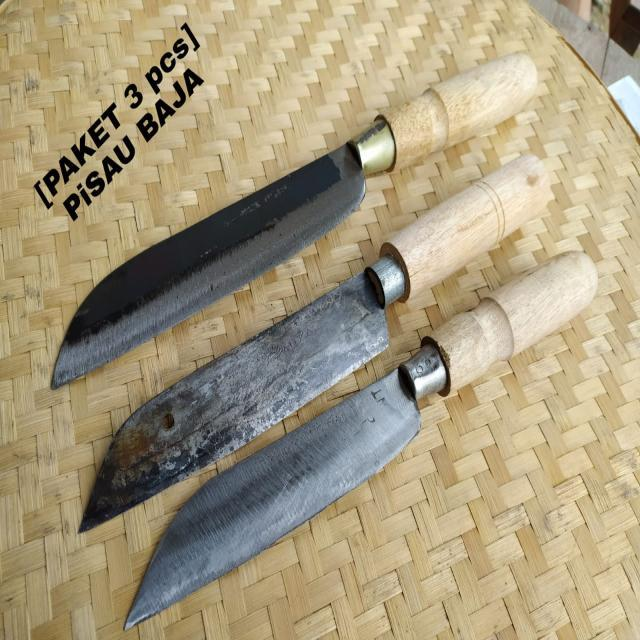Pisau: (41, 32, 554, 399)
